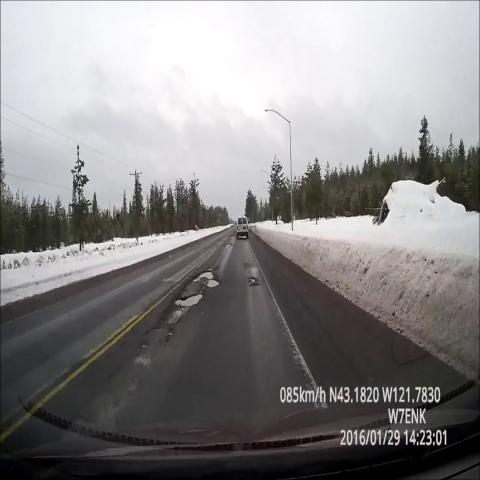pothole: (173, 283, 205, 317), (191, 266, 225, 293), (240, 257, 262, 296), (220, 241, 237, 257), (226, 228, 241, 245)
